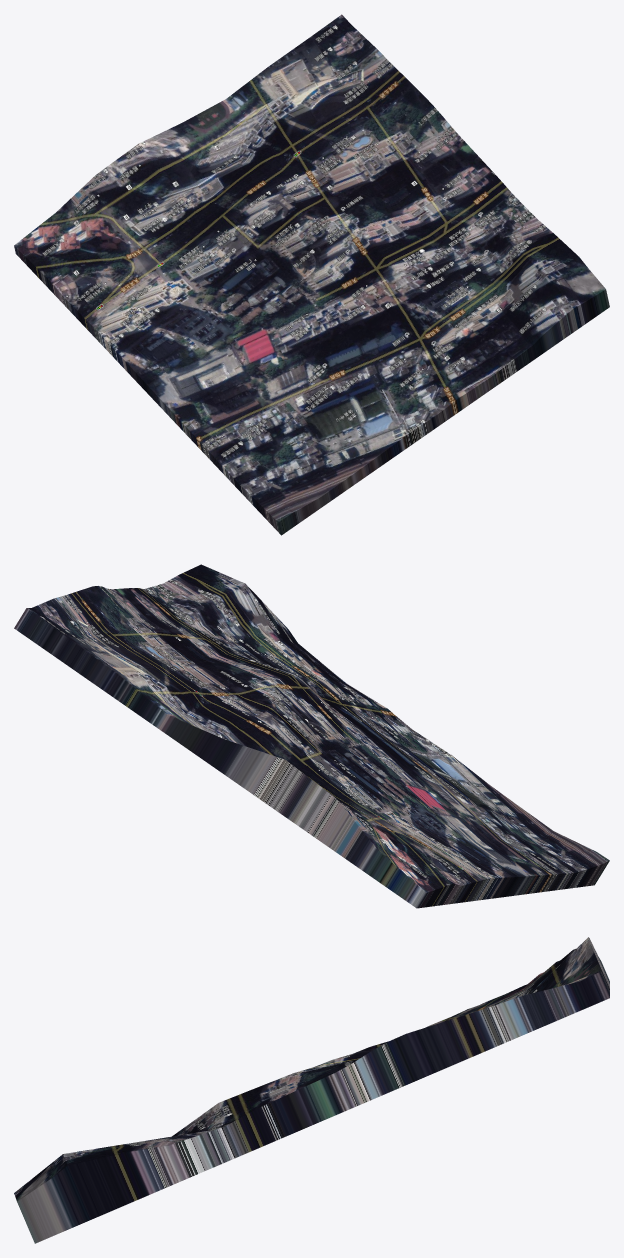
The picture shows the model from 3 angles, top to bottom: view 1: azimuth 30°, elevation 25°; view 2: azimuth 150°, elevation 25°; view 3: azimuth 270°, elevation 25°; orthographic projection. The views are drawn at different scales.
Parts seen in each view (by area): view 1: 0_6_25; view 2: 0_6_25; view 3: 0_6_25.
Part boxes in pixels (left/top/right/bottom): 0_6_25: left=14, top=14, right=609, bottom=535; 0_6_25: left=14, top=564, right=609, bottom=908; 0_6_25: left=14, top=937, right=609, bottom=1243.
Bounding box in the file's own units: 599 × 451 × 562.
1 material, 1 textured.
